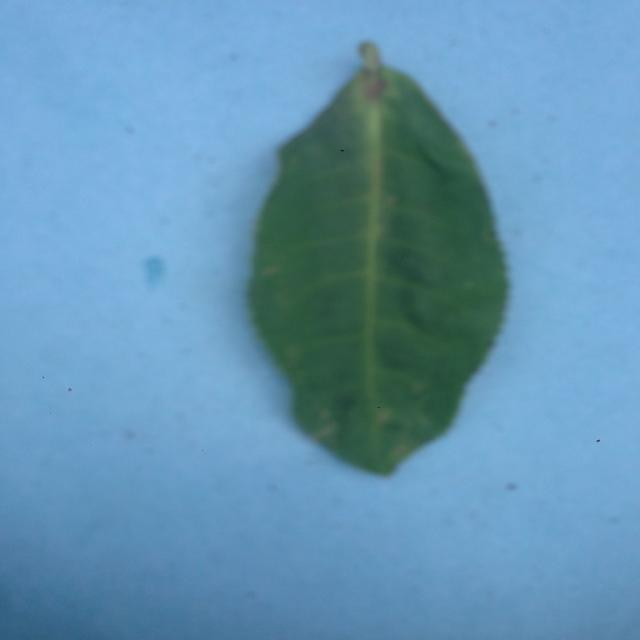Healthy: (215, 15, 534, 512)
